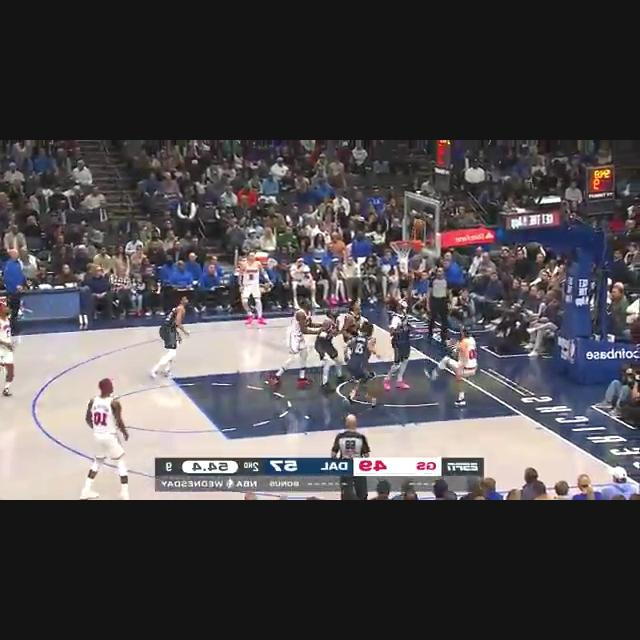Ball: (410, 215, 428, 238)
Team-1-Player: (380, 284, 420, 394), (149, 294, 193, 380), (342, 321, 386, 404), (314, 306, 346, 394)
Team-2-Player: (78, 376, 134, 500), (421, 324, 482, 408), (265, 296, 319, 388), (234, 247, 276, 329), (0, 298, 17, 393)
